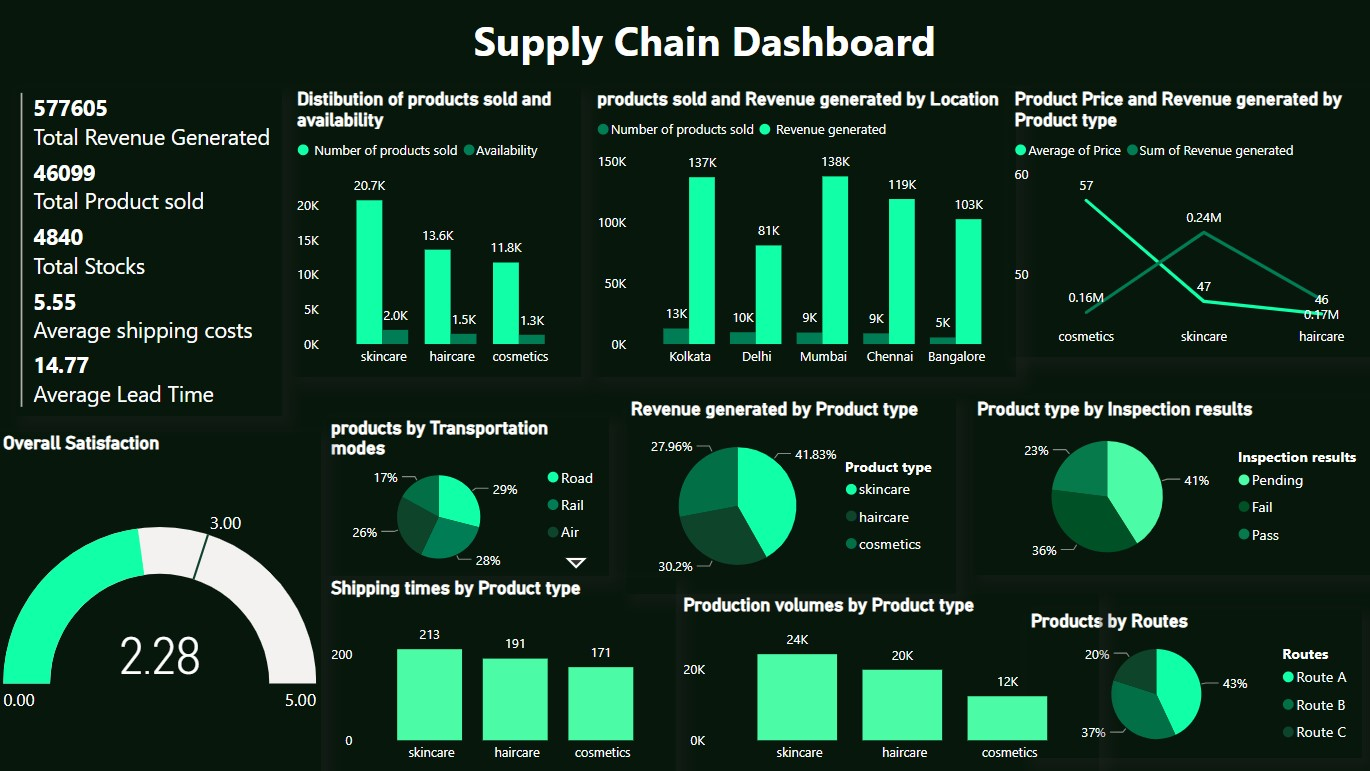

What the dashboard file says about the page in this screenshot:
{"tool":"powerbi","page":{"name":"Page 1","canvas":[1280,720],"ordinal":0},"visuals":[{"type":"multiRowCard","fields":{"Values":["supply_chain_data.Total Revenue Generated","supply_chain_data.Total Product sold","supply_chain_data.Total Stocks","supply_chain_data.Average shipping costs","supply_chain_data.Average Lead Time"]},"box":[16.3,82.6,247.7,305.8],"z":0},{"type":"clusteredColumnChart","title":"Distibution of products sold and availability","fields":{"Category":["supply_chain_data.Product type"],"Y":["Sum(supply_chain_data.Number of products sold)","Sum(supply_chain_data.Availability)"]},"box":[273.3,82.6,268.6,268.6],"z":1000},{"type":"clusteredColumnChart","title":" products sold and  Revenue generated by Location","fields":{"Category":["supply_chain_data.Location"],"Y":["Sum(supply_chain_data.Number of products sold)","Sum(supply_chain_data.Revenue generated)"]},"box":[552.3,82.6,394.2,268.6],"z":2000},{"type":"pieChart","title":"products by Transportation modes","fields":{"Y":["CountNonNull(supply_chain_data.SKU)"],"Category":["supply_chain_data.Transportation modes"]},"box":[304.7,388.4,264,148.8],"z":3000},{"type":"pieChart","title":" Revenue generated by Product type","fields":{"Category":["supply_chain_data.Product type"],"Y":["Sum(supply_chain_data.Revenue generated)"]},"box":[583.7,370.9,307,182.6],"z":4000},{"type":"pieChart","title":"Products by Routes","fields":{"Y":["CountNonNull(supply_chain_data.SKU)"],"Category":["supply_chain_data.Routes"]},"box":[955.8,568.6,312.8,137.2],"z":5000},{"type":"gauge","title":"Overall Satisfaction","fields":{"Y":["Sum(supply_chain_data.Defect rates)"],"MinValue":["supply_chain_data.Minimum value"],"MaxValue":["supply_chain_data.maximun Value"],"TargetValue":["supply_chain_data.Target value"]},"box":[0,402.3,301.2,317.4],"z":6000},{"type":"lineChart","title":"Product Price and Revenue generated by Product type","fields":{"Category":["supply_chain_data.Product type"],"Y":["Avg(supply_chain_data.Price)"],"Y2":["Sum(supply_chain_data.Revenue generated)"]},"box":[940.7,82.6,339.5,250],"z":7000},{"type":"columnChart","title":"Shipping times by Product type","fields":{"Category":["supply_chain_data.Product type"],"Y":["Sum(supply_chain_data.Shipping times)"]},"box":[304.7,537.2,326.7,182.6],"z":8000},{"type":"clusteredColumnChart","title":"Production volumes by Product type","fields":{"Category":["supply_chain_data.Product type"],"Y":["Sum(supply_chain_data.Production volumes)"]},"box":[632.6,553.5,391.9,166.3],"z":9000},{"type":"pieChart","title":"Product type by Inspection results","fields":{"Category":["supply_chain_data.Inspection results"],"Y":["CountNonNull(supply_chain_data.Product type)"]},"box":[905.8,370.9,374.4,165.1],"z":10000},{"type":"textbox","box":[437.2,8.1,453.5,74.4],"z":10001}]}

Visuals, with their boxes in screenshot pixels (x1, y1, x2, y2), scaled from the page's 1280x720 canvas onto the 1370x771 screenshot:
multiRowCard - supply_chain_data.Total Revenue Generated x supply_chain_data.Total Product sold: [17, 88, 283, 416]
"Distibution of products sold and availability" clusteredColumnChart: [293, 88, 580, 376]
" products sold and  Revenue generated by Location" clusteredColumnChart: [591, 88, 1013, 376]
"products by Transportation modes" pieChart: [326, 416, 609, 575]
" Revenue generated by Product type" pieChart: [625, 397, 953, 593]
"Products by Routes" pieChart: [1023, 609, 1358, 756]
"Overall Satisfaction" gauge: [0, 431, 322, 770]
"Product Price and Revenue generated by Product type" lineChart: [1007, 88, 1369, 356]
"Shipping times by Product type" columnChart: [326, 575, 676, 770]
"Production volumes by Product type" clusteredColumnChart: [677, 593, 1097, 770]
"Product type by Inspection results" pieChart: [969, 397, 1369, 574]
textbox: [468, 9, 953, 88]
